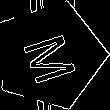M_E: (17, 25, 82, 85)
